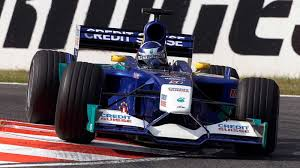FormulaOneCar: (23, 5, 282, 158)
